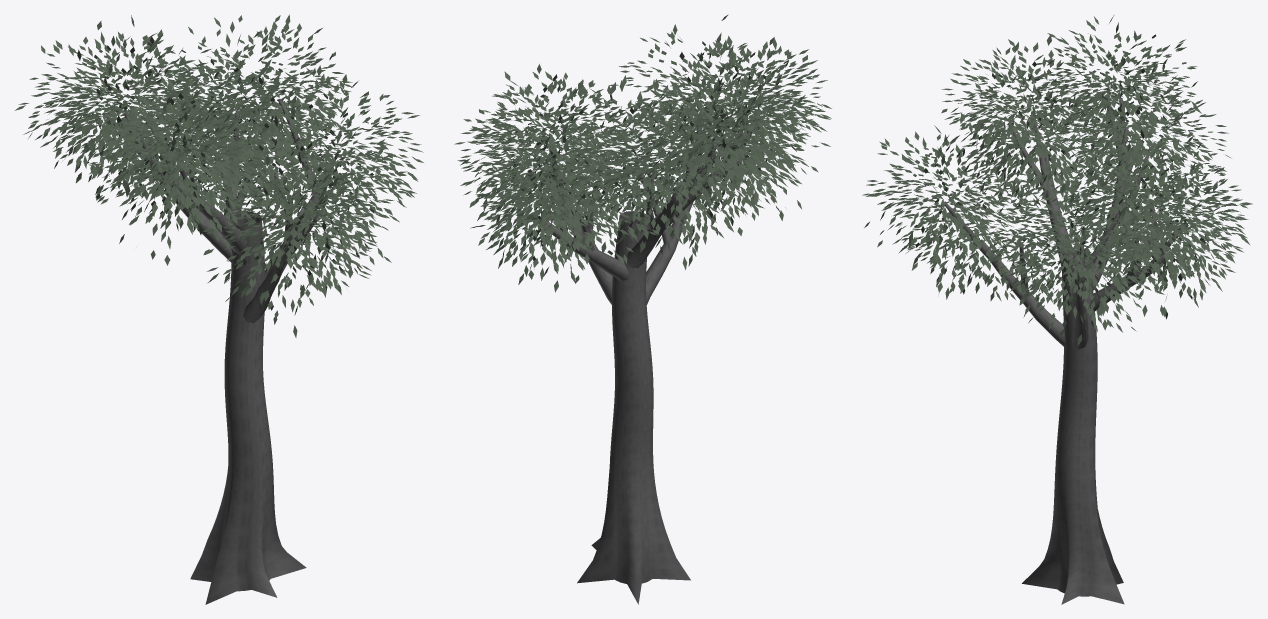
Rendered from SM_Island_Tree_B.fbx.
3 views of the same model, side by side, from view 1: azimuth 30°, elevation 25°; view 2: azimuth 150°, elevation 25°; view 3: azimuth 270°, elevation 25° (orthographic). The views are drawn at different scales.
Visible parts, largest first — view 1: SM_Island_Tree_B; view 2: SM_Island_Tree_B; view 3: SM_Island_Tree_B.
Boxes of the visible parts, x1,y1,x2,y2 form: SM_Island_Tree_B: [15, 14, 423, 604]; SM_Island_Tree_B: [454, 14, 831, 604]; SM_Island_Tree_B: [862, 15, 1252, 604].
Size of the model in its own units: 1613 by 2446 by 1632.
Materials: 2 (2 with a texture image).
